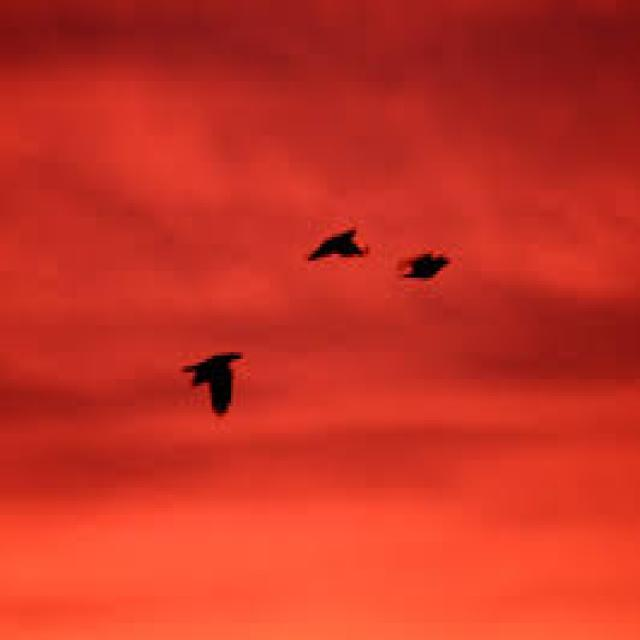bird: (172, 333, 260, 438), (300, 216, 376, 278), (396, 240, 459, 290)
